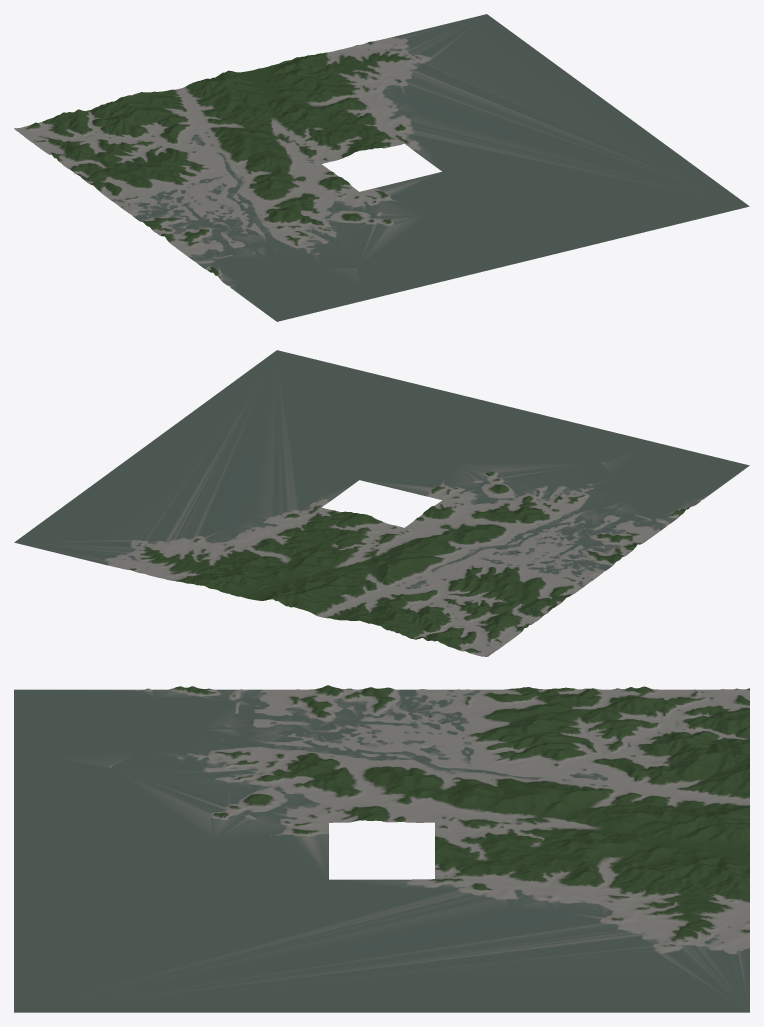
File: backdrop.glb
The picture shows the model from 3 angles, top to bottom: view 1: azimuth 30°, elevation 25°; view 2: azimuth 150°, elevation 25°; view 3: azimuth 270°, elevation 25°; orthographic projection. The views are drawn at different scales.
Visible parts, largest first — view 1: Backdrop_Terrain; view 2: Backdrop_Terrain; view 3: Backdrop_Terrain.
Part boxes in pixels (bbox=[...]): Backdrop_Terrain: bbox=[14, 14, 749, 321]; Backdrop_Terrain: bbox=[14, 350, 749, 656]; Backdrop_Terrain: bbox=[14, 685, 749, 1012].
Bounding box in the file's own units: 58401 × 920 × 56241.
